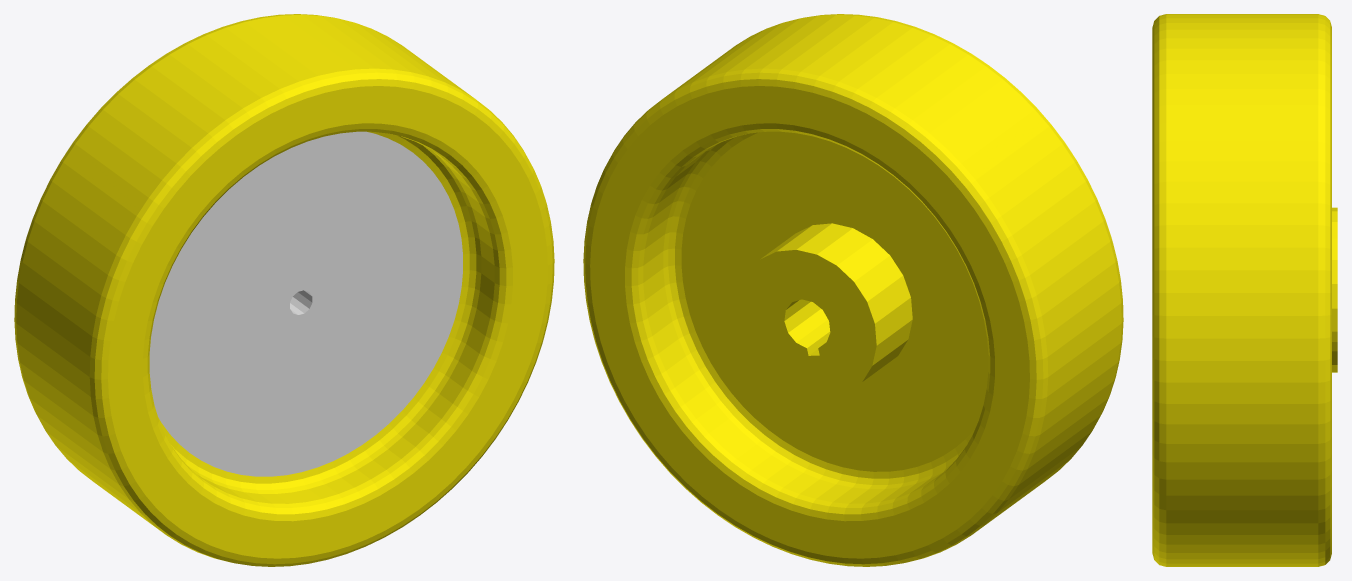
File: Roda_R_Link.dae
The picture shows the model from 3 angles, left to right: view 1: azimuth 30°, elevation 25°; view 2: azimuth 150°, elevation 25°; view 3: azimuth 270°, elevation 25°; orthographic projection. The views are drawn at different scales.
Visible parts, largest first — view 1: Roda R Link; view 2: Roda R Link; view 3: Roda R Link.
Boxes of the visible parts, left/top/right/bottom form: Roda R Link: left=14, top=14, right=554, bottom=566; Roda R Link: left=583, top=14, right=1123, bottom=566; Roda R Link: left=1152, top=14, right=1337, bottom=566.
Size of the model in its own units: 0.2 by 0.067 by 0.2.
